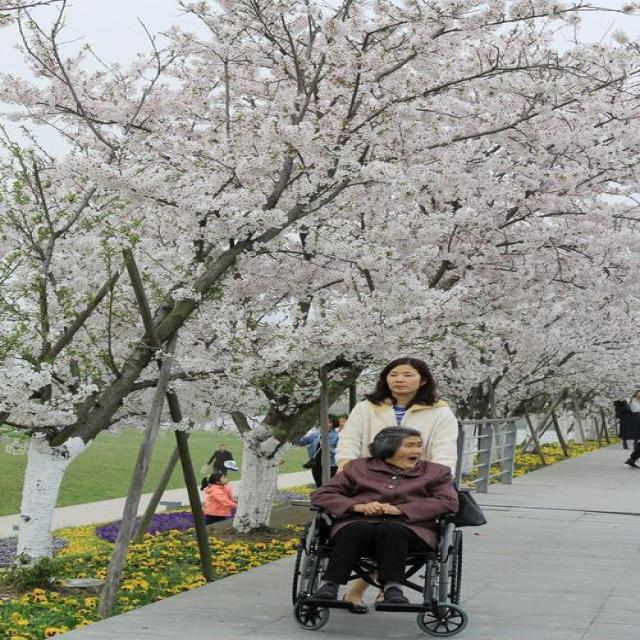wheelchairs: (269, 464, 505, 640)
